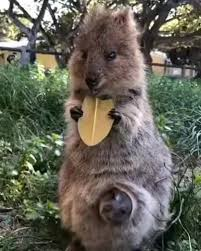quokka: (48, 3, 173, 247)
